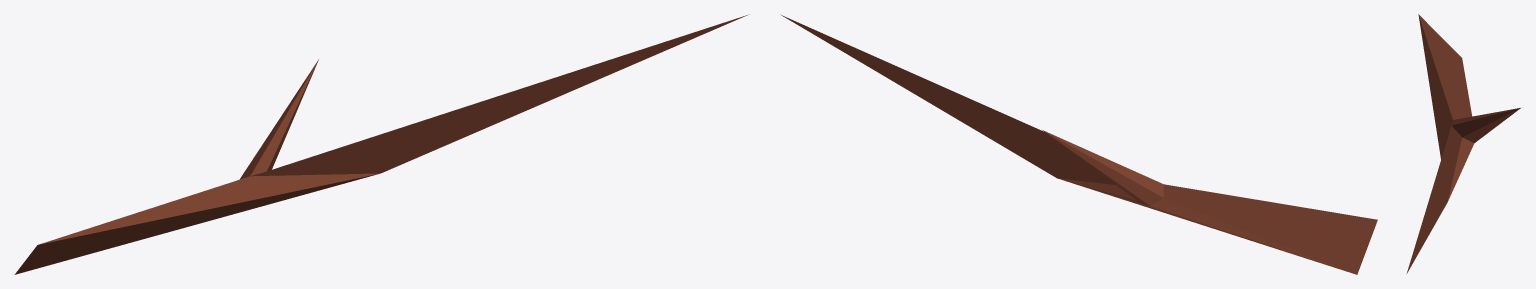
The model's file is pine_branch_type_7_LOD1.fbx.
The picture shows the model from 3 angles, left to right: view 1: azimuth 30°, elevation 25°; view 2: azimuth 150°, elevation 25°; view 3: azimuth 270°, elevation 25°; orthographic projection. The views are drawn at different scales.
Visible parts, largest first — view 1: Circle.083; view 2: Circle.083; view 3: Circle.083.
Boxes of the visible parts, <box> form: Circle.083: <box>14,14,748,274</box>; Circle.083: <box>780,14,1377,274</box>; Circle.083: <box>1406,14,1520,273</box>.
Bounding box in the file's own units: 363 × 54.57 × 55.28.
